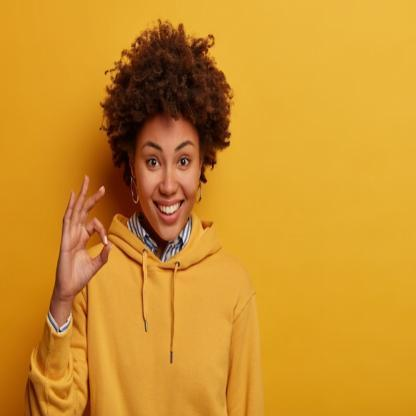ok: (53, 171, 114, 300)
